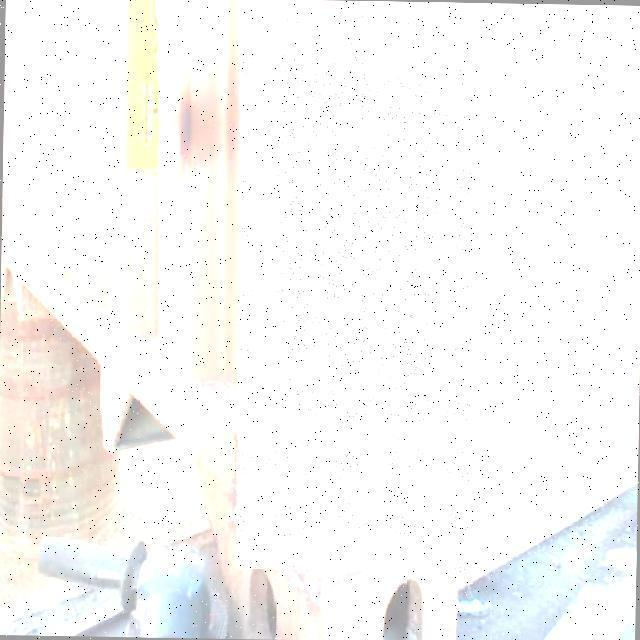rust: (243, 1, 477, 70)
